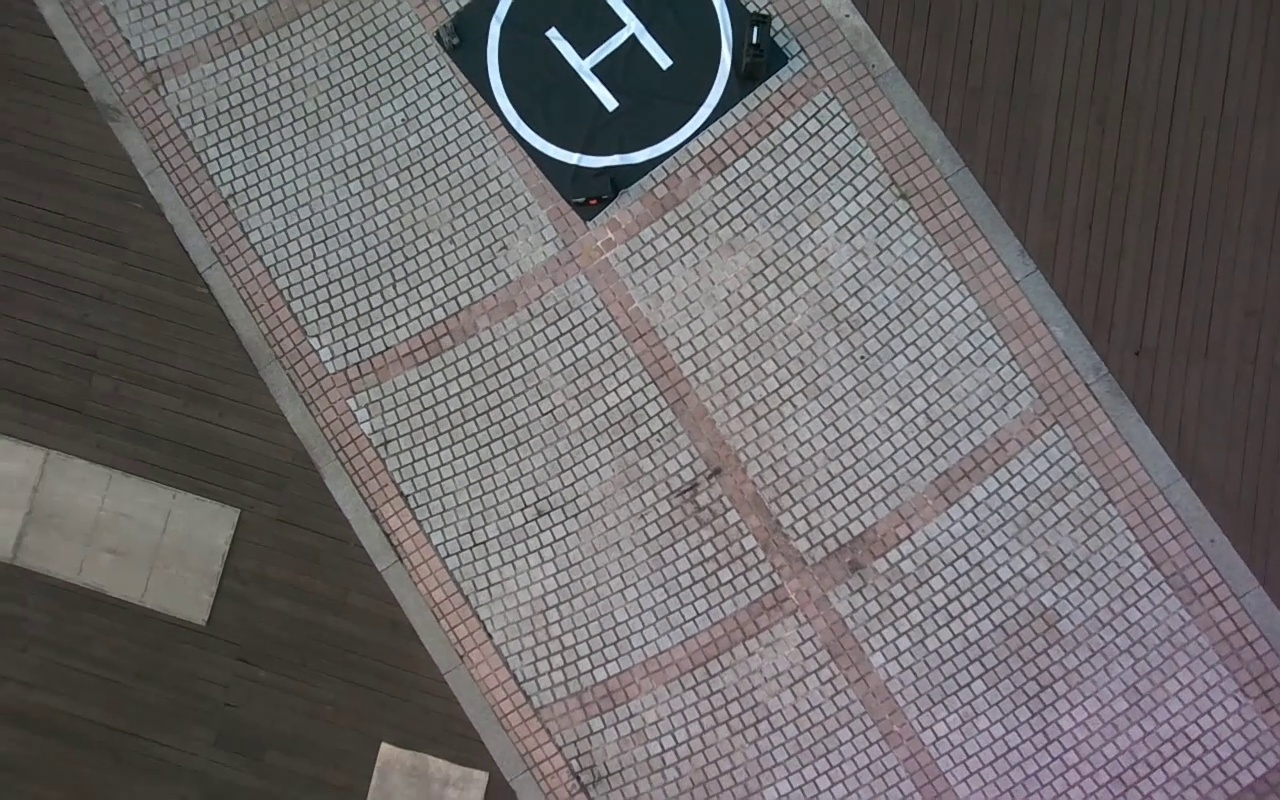H: (540, 1, 680, 111)
